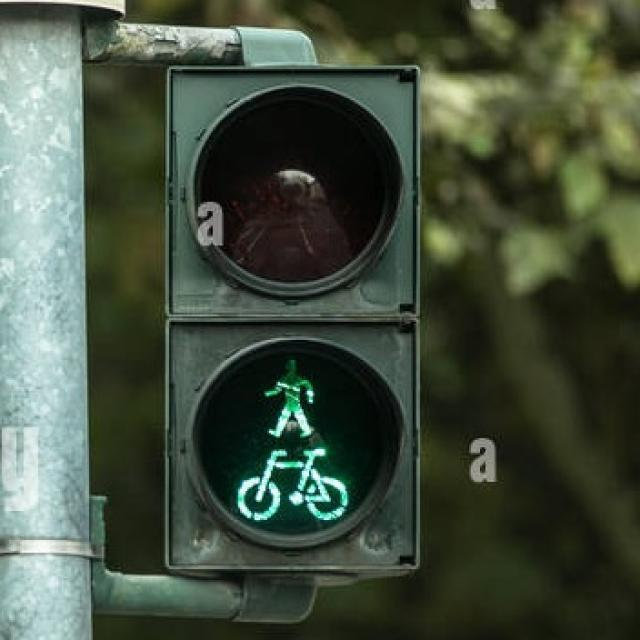geen-crossing: (243, 342, 329, 442)
